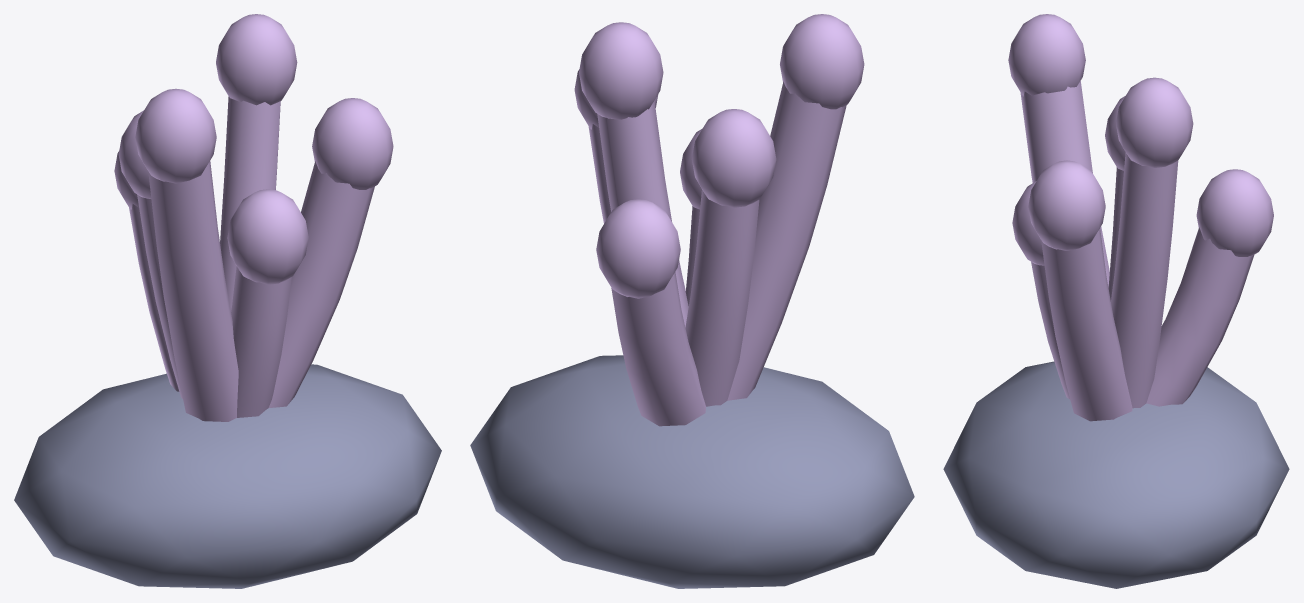
File: coral2.glb
The picture shows the model from 3 angles, left to right: view 1: azimuth 30°, elevation 25°; view 2: azimuth 150°, elevation 25°; view 3: azimuth 270°, elevation 25°; orthographic projection. The views are drawn at different scales.
Parts seen in each view (by area): view 1: RootStone.002, Branch_3.002, Branch_5, Branch_4.001, Branch_0.002, RoundedTip_4.001, RoundedTip_3.002, RoundedTip_0.002, RoundedTip_5, Branch_2.002, Branch_1.002, RoundedTip_2.002; view 2: RootStone.002, Branch_3.002, Branch_2.002, Branch_1.002, RoundedTip_1.002, RoundedTip_2.002, RoundedTip_0.002, RoundedTip_3.002, Branch_0.002, Branch_5, RoundedTip_4.001, Branch_4.001 (+1 smaller); view 3: RootStone.002, Branch_0.002, Branch_5, Branch_1.002, RoundedTip_5, RoundedTip_0.002, RoundedTip_1.002, RoundedTip_3.002, Branch_3.002, RoundedTip_4.001, Branch_4.001, Branch_2.002 (+1 smaller).
Part boxes in pixels (x1,y1,x2,y2): RootStone.002: (14,364,441,588); Branch_3.002: (148,161,238,421); Branch_5: (268,161,374,407); Branch_4.001: (231,266,291,417); Branch_0.002: (220,96,280,311); RoundedTip_4.001: (227,189,308,284); RoundedTip_3.002: (135,88,216,183); RoundedTip_0.002: (216,14,297,105); RoundedTip_5: (312,98,393,189); Branch_2.002: (137,194,182,398); Branch_1.002: (129,204,179,391); RoundedTip_2.002: (118,110,151,198); RootStone.002: (470,355,914,588); Branch_3.002: (727,81,846,400); Branch_2.002: (685,189,759,406); Branch_1.002: (611,272,705,426); RoundedTip_1.002: (596,199,680,298); RoundedTip_2.002: (691,109,776,207); RoundedTip_0.002: (579,22,663,119); RoundedTip_3.002: (780,14,864,109); Branch_0.002: (597,100,688,327); Branch_5: (588,124,685,290); RoundedTip_4.001: (680,128,702,209); Branch_4.001: (685,206,699,305); RootStone.002: (943,361,1289,588); Branch_0.002: (1111,152,1178,408); Branch_5: (1041,228,1132,421); Branch_1.002: (1146,227,1254,406); RoundedTip_5: (1028,160,1105,250); RoundedTip_0.002: (1116,77,1193,167); RoundedTip_1.002: (1196,169,1273,256); RoundedTip_3.002: (1008,14,1085,96); Branch_3.002: (1020,81,1109,287); RoundedTip_4.001: (1012,181,1044,265); Branch_4.001: (1031,262,1069,399); Branch_2.002: (1108,167,1123,301).
Bounding box in the file's own units: 1.37 × 1.82 × 1.16.
